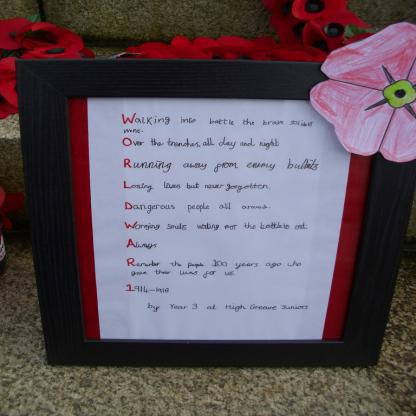Picture-frame: (23, 55, 410, 368)
